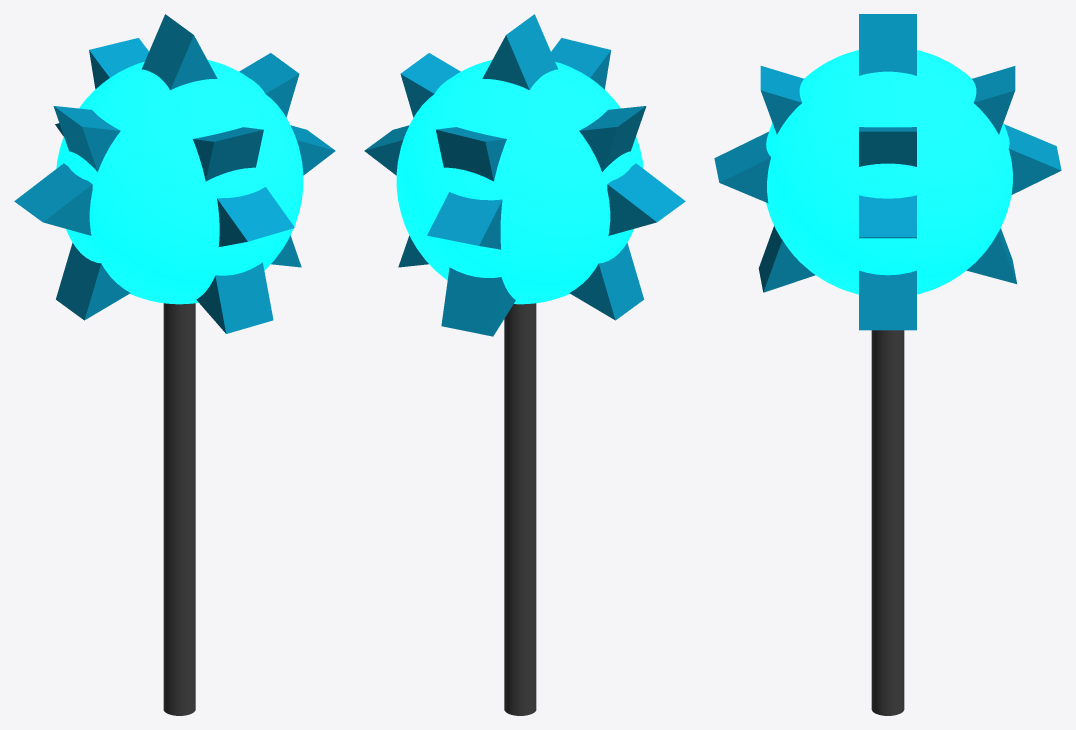
Rendered from weapon.gltf.
3 views of the same model, side by side, from view 1: azimuth 30°, elevation 25°; view 2: azimuth 150°, elevation 25°; view 3: azimuth 270°, elevation 25° (orthographic).
Visible parts, largest first — view 1: MeshInstance3D22, MeshInstance3D, MeshInstance3D14, MeshInstance3D7, MeshInstance3D3, MeshInstance3D10, MeshInstance3D11, MeshInstance3D6, MeshInstance3D32, MeshInstance3D4, MeshInstance3D5, MeshInstance3D8; view 2: MeshInstance3D22, MeshInstance3D, MeshInstance3D13, MeshInstance3D7, MeshInstance3D3, MeshInstance3D9, MeshInstance3D11, MeshInstance3D5, MeshInstance3D32, MeshInstance3D4, MeshInstance3D6, MeshInstance3D8; view 3: MeshInstance3D22, MeshInstance3D, MeshInstance3D3, MeshInstance3D12, MeshInstance3D10, MeshInstance3D8, MeshInstance3D9, MeshInstance3D4, MeshInstance3D6, MeshInstance3D5, MeshInstance3D14, MeshInstance3D13.
Part boxes in pixels (x1,y1,x2,y2): MeshInstance3D22: [56, 59, 303, 304]; MeshInstance3D: [163, 303, 195, 715]; MeshInstance3D14: [196, 262, 273, 333]; MeshInstance3D7: [14, 163, 92, 235]; MeshInstance3D3: [142, 14, 217, 90]; MeshInstance3D10: [217, 187, 294, 246]; MeshInstance3D11: [56, 242, 130, 320]; MeshInstance3D6: [193, 127, 263, 181]; MeshInstance3D32: [53, 106, 120, 171]; MeshInstance3D4: [239, 53, 299, 117]; MeshInstance3D5: [89, 38, 148, 88]; MeshInstance3D8: [290, 125, 335, 175]; MeshInstance3D22: [396, 59, 643, 304]; MeshInstance3D: [504, 303, 536, 715]; MeshInstance3D13: [441, 267, 515, 336]; MeshInstance3D7: [607, 163, 685, 235]; MeshInstance3D3: [482, 14, 557, 90]; MeshInstance3D9: [427, 192, 502, 249]; MeshInstance3D11: [569, 242, 643, 320]; MeshInstance3D5: [436, 127, 506, 181]; MeshInstance3D32: [579, 106, 646, 171]; MeshInstance3D4: [400, 53, 460, 117]; MeshInstance3D6: [551, 38, 611, 89]; MeshInstance3D8: [364, 125, 409, 175]; MeshInstance3D22: [766, 50, 1012, 294]; MeshInstance3D: [871, 330, 904, 715]; MeshInstance3D3: [859, 14, 916, 75]; MeshInstance3D12: [859, 270, 916, 330]; MeshInstance3D10: [714, 131, 770, 202]; MeshInstance3D8: [859, 195, 916, 238]; MeshInstance3D9: [1004, 124, 1061, 194]; MeshInstance3D4: [859, 127, 916, 166]; MeshInstance3D6: [760, 66, 803, 134]; MeshInstance3D5: [972, 66, 1015, 134]; MeshInstance3D14: [758, 226, 815, 292]; MeshInstance3D13: [966, 228, 1016, 283].
Bounding box in the file's own units: 3.83 × 8.56 × 3.88.
